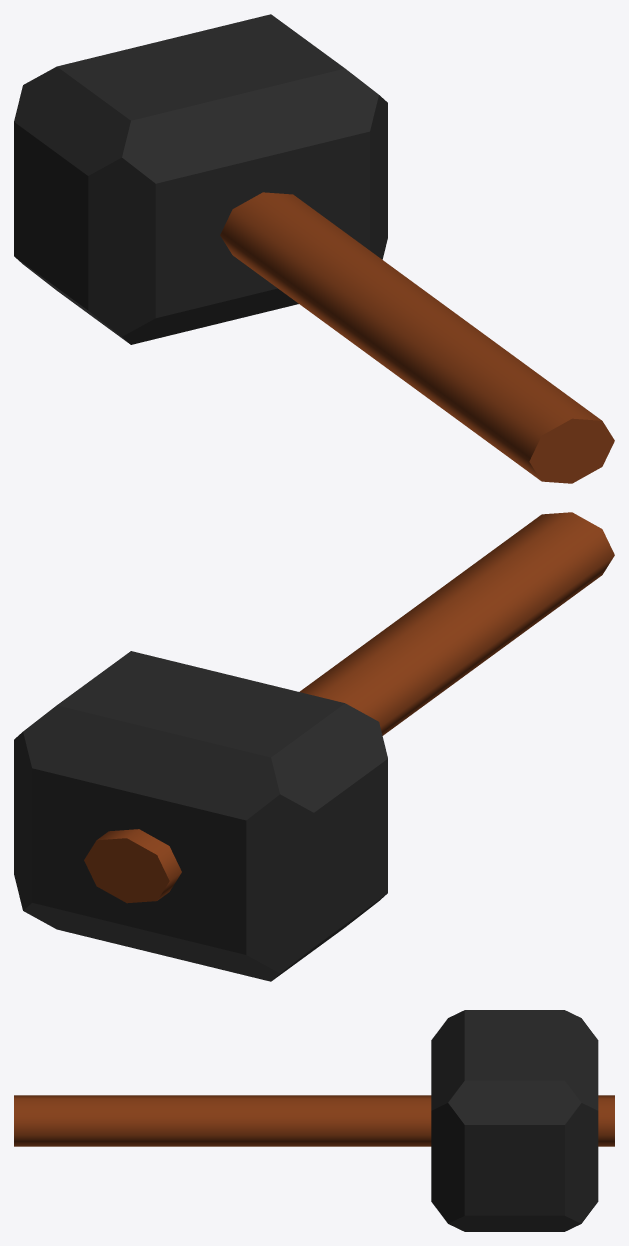
Rendered from Hammer.FBX.
The picture shows the model from 3 angles, top to bottom: view 1: azimuth 30°, elevation 25°; view 2: azimuth 150°, elevation 25°; view 3: azimuth 270°, elevation 25°; orthographic projection. The views are drawn at different scales.
Visible parts, largest first — view 1: Cylinder01; view 2: Cylinder01; view 3: Cylinder01.
Boxes of the visible parts, x1=… form: Cylinder01: x1=14, y1=14, x2=614, y2=483; Cylinder01: x1=14, y1=512, x2=614, y2=981; Cylinder01: x1=14, y1=1010, x2=614, y2=1231.
Size of the model in its own units: 8 by 5.72 by 20.58.
